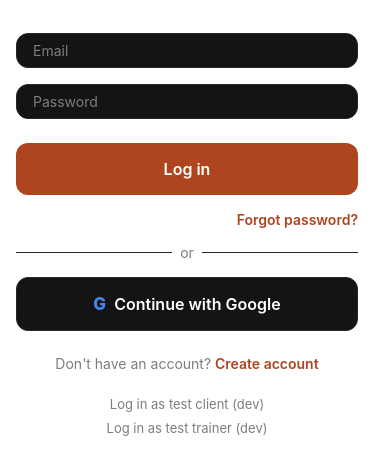
Test case: LoginScreen › shows the error message when login fails
Type "a@b.com" into the field with test id "login-email" at (187, 50), box x1=16 y1=32 x2=358 y2=68
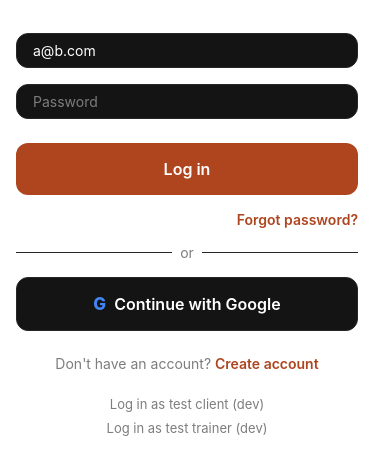
Type "bad" into the password field with test id "login-password" at (187, 101), box x1=16 y1=84 x2=358 y2=118
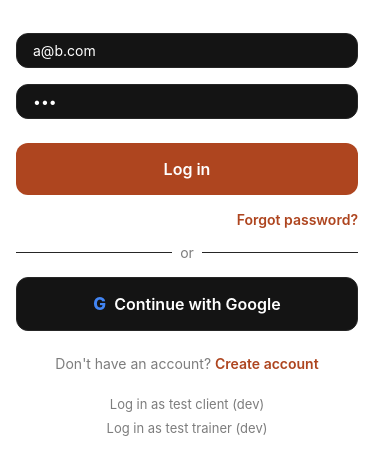
Click the button with test id "login-submit" at (187, 168), box x1=16 y1=142 x2=358 y2=194
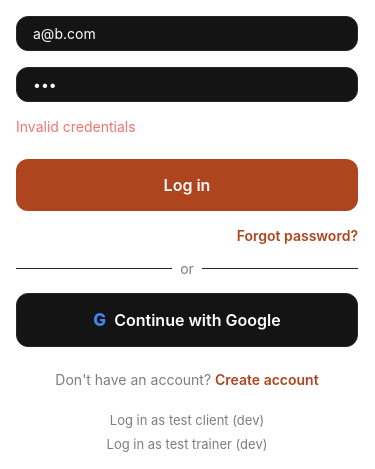
Expected: the text "Invalid credentials" is shown, x1=16 y1=118 x2=136 y2=135
